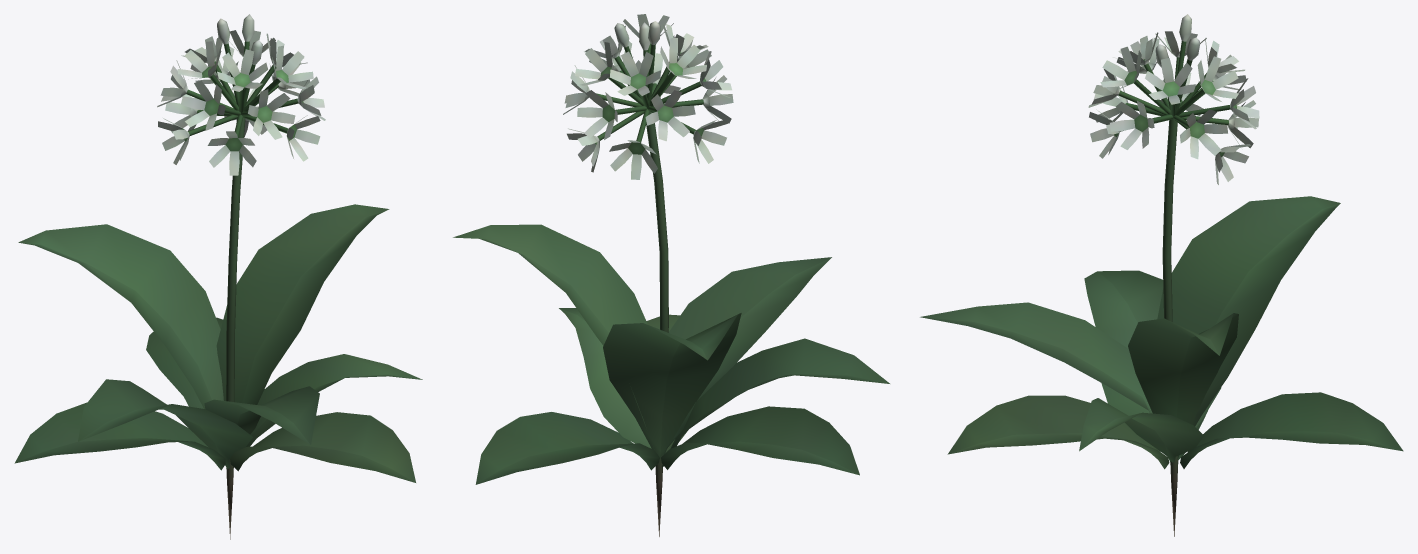
The model's file is plants-flowers-wild-garlic_v2.glb.
3 renders of one model, left to right at view 1: azimuth 30°, elevation 25°; view 2: azimuth 150°, elevation 25°; view 3: azimuth 270°, elevation 25°, orthographic.
Visible parts, largest first — view 1: Wild Garlic_v2; view 2: Wild Garlic_v2; view 3: Wild Garlic_v2.
Boxes of the visible parts, box(x1,y1,x2,y2) form: Wild Garlic_v2: box(14, 14, 422, 539); Wild Garlic_v2: box(453, 14, 889, 536); Wild Garlic_v2: box(920, 14, 1403, 536).
Size of the model in its own units: 0.3145 by 0.4 by 0.3349.
